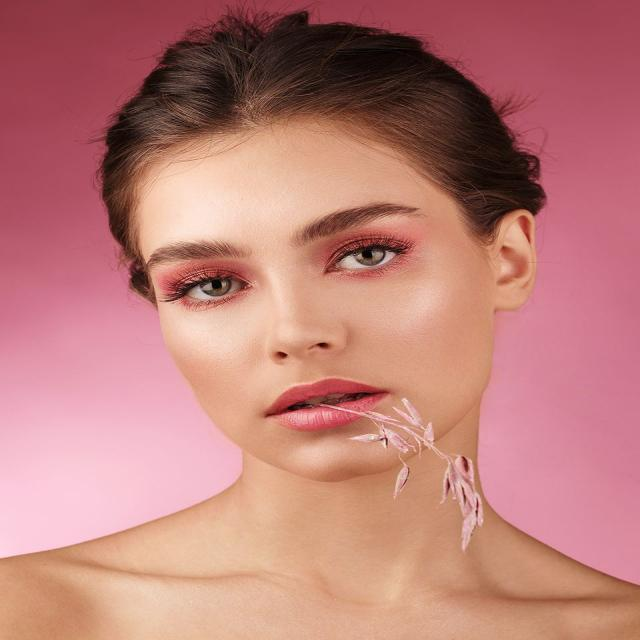earlobe: (486, 208, 538, 312)
